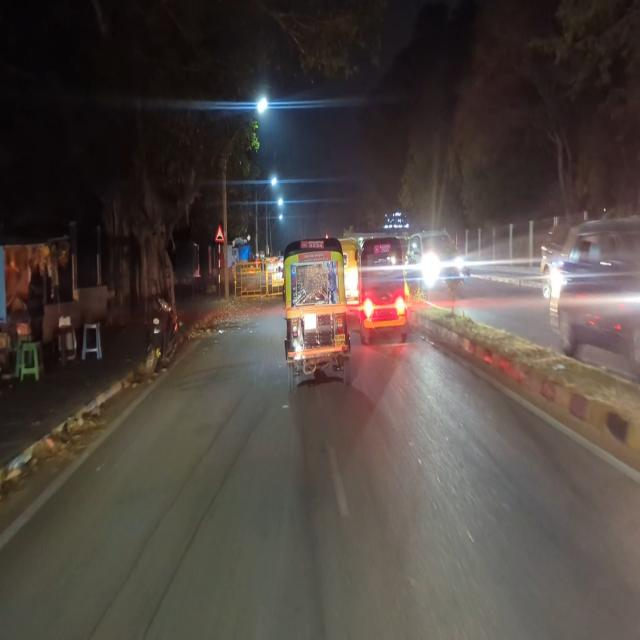bien_cam: (214, 222, 225, 244)
